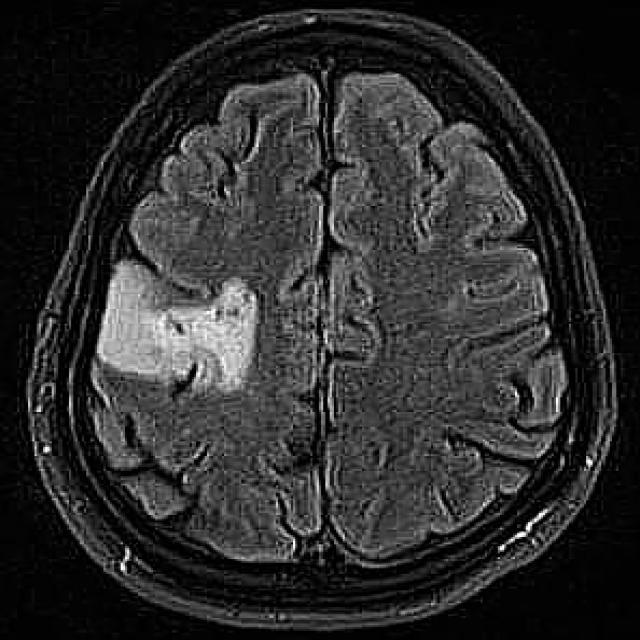Tumor-Cell: (99, 262, 280, 396)
